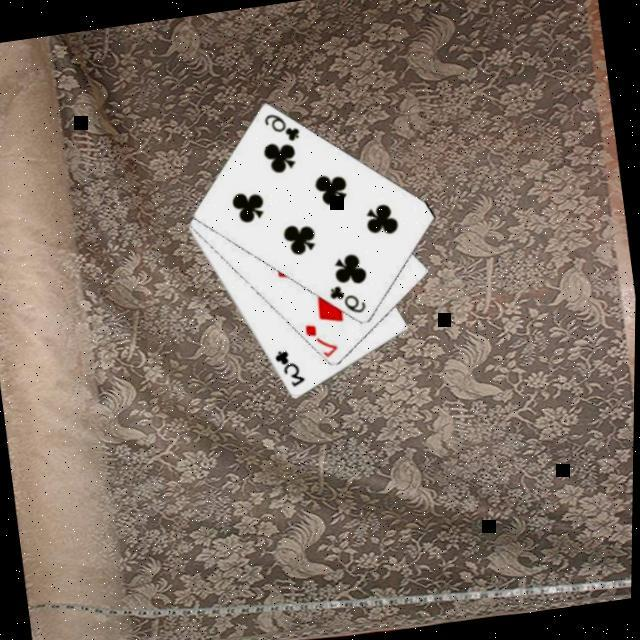3C: (273, 345, 312, 393)
6C: (328, 280, 373, 321), (262, 108, 307, 149)
7D: (304, 319, 346, 364)
